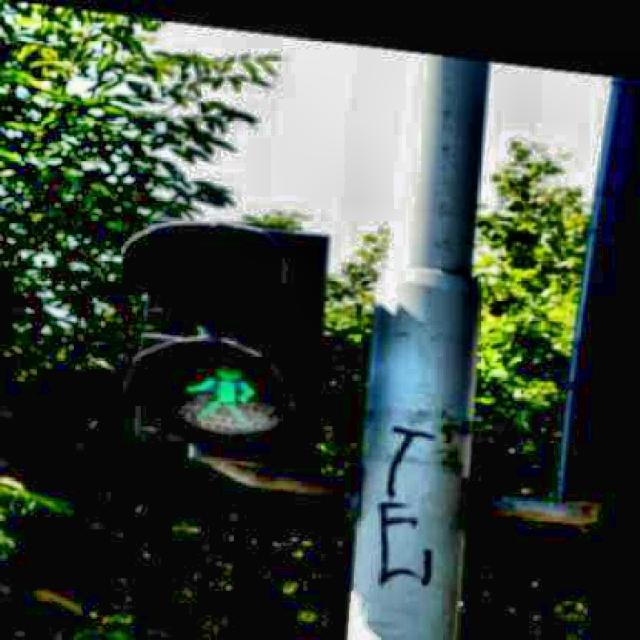semaforo pedestre: (11, 165, 417, 550)
